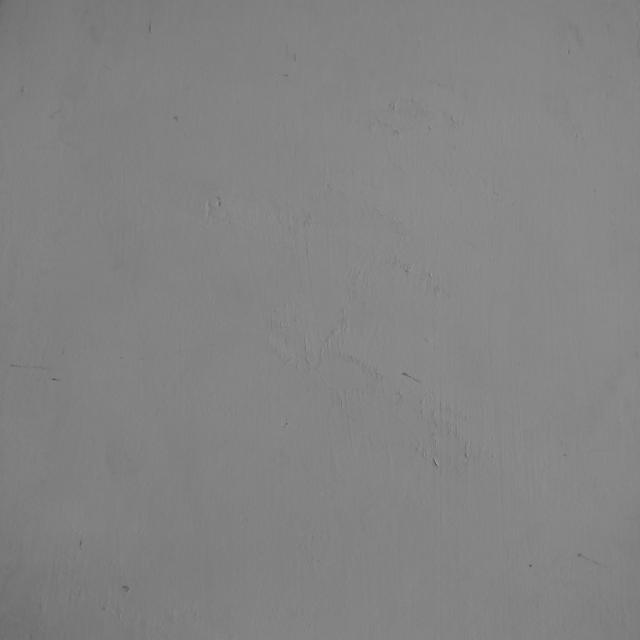rough and patchy surface: (264, 279, 528, 531), (267, 84, 486, 276), (0, 521, 208, 640), (30, 322, 120, 426), (189, 178, 261, 239), (146, 12, 160, 45)
